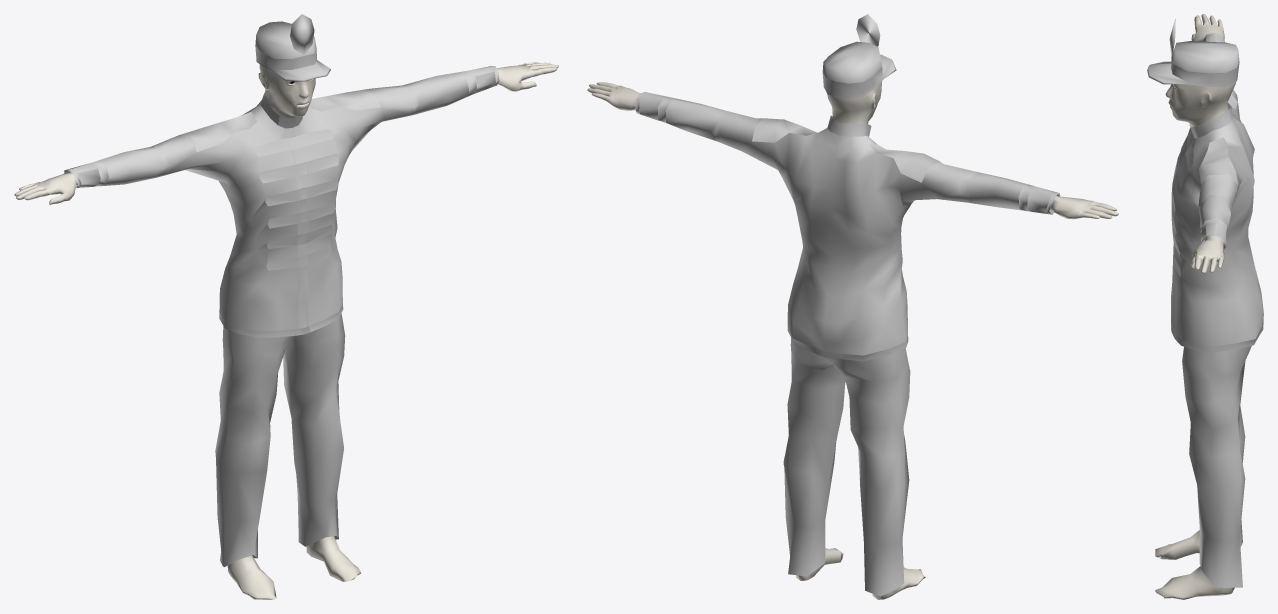
The model's file is Roupa.fbx.
The picture shows the model from 3 angles, left to right: view 1: azimuth 30°, elevation 25°; view 2: azimuth 150°, elevation 25°; view 3: azimuth 270°, elevation 25°; orthographic projection. The views are drawn at different scales.
Parts seen in each view (by area): view 1: Calça, male1591Mesh; view 2: Calça, male1591Mesh; view 3: Calça, male1591Mesh.
Part boxes in pixels (x1=…): Calça: x1=64, y1=14, x2=499, y2=566; male1591Mesh: x1=14, y1=62, x2=558, y2=599; Calça: x1=635, y1=14, x2=1060, y2=596; male1591Mesh: x1=587, y1=81, x2=1118, y2=599; Calça: x1=1147, y1=19, x2=1263, y2=587; male1591Mesh: x1=1155, y1=14, x2=1235, y2=599.
Size of the model in its own units: 711 by 715 by 136.
